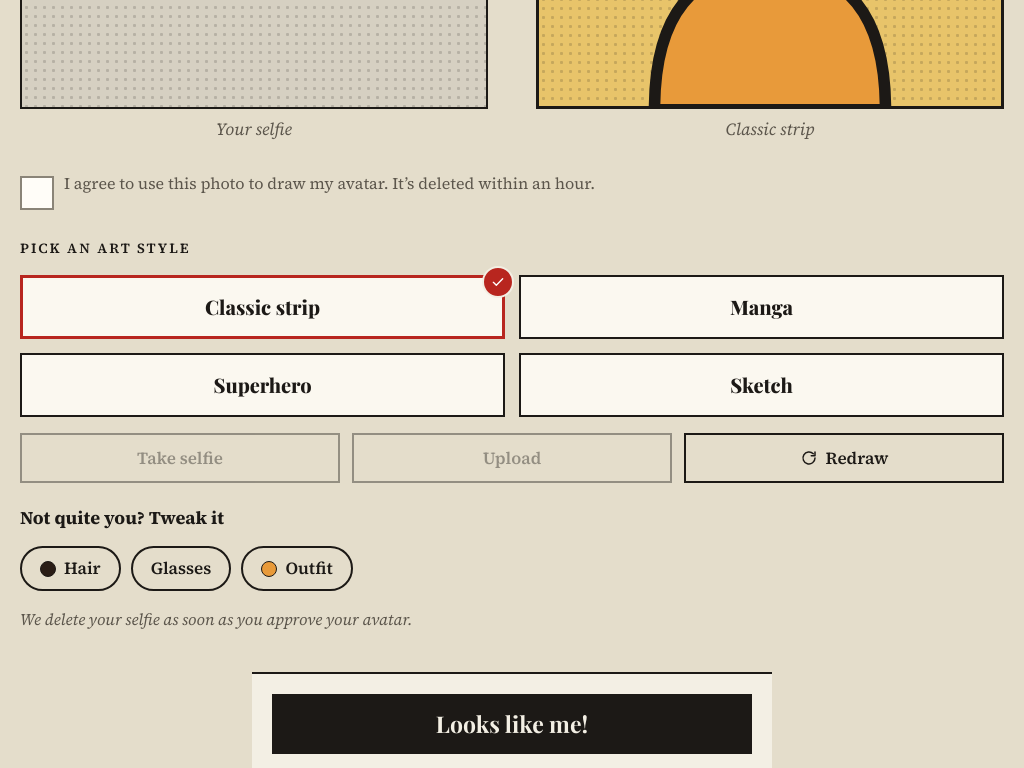
avatar onboarding › draws immediately when a style is picked, and draws on finish when there is no portrait yet
This screenshot has width=1024, height=768.
(page scrolled)
Click the radio button labelled "Sketch": (762, 385) 519,353 -> 1004,417
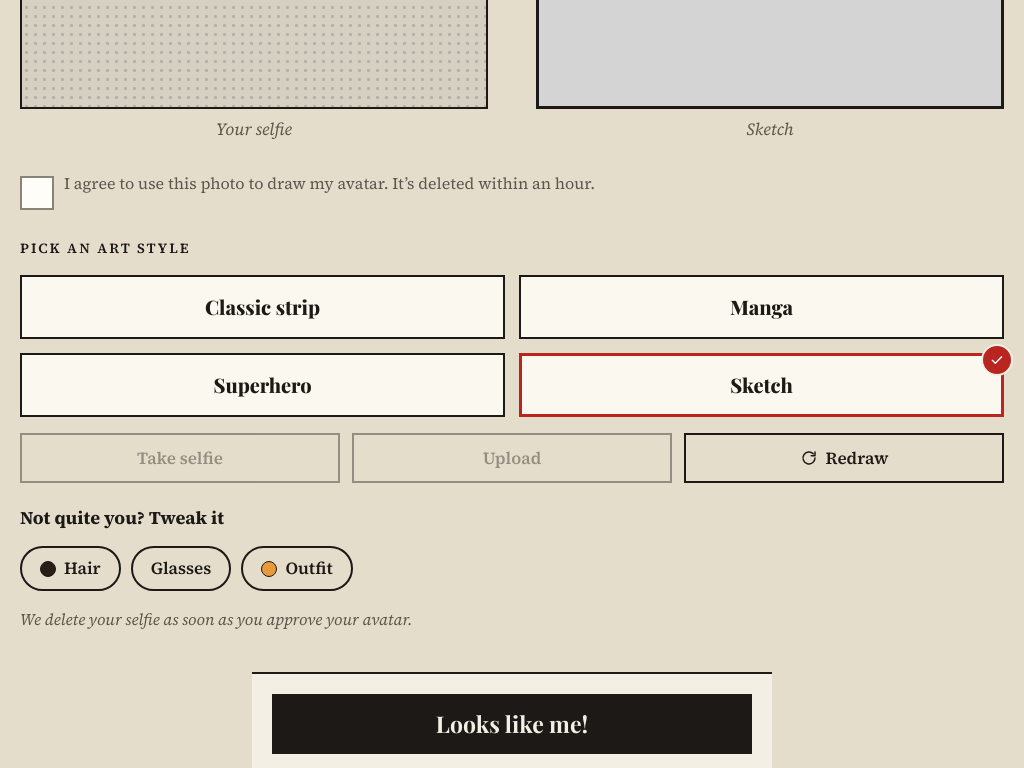
Click the button "Looks like me!": (512, 724) 272,694 -> 752,754
(page scrolled)
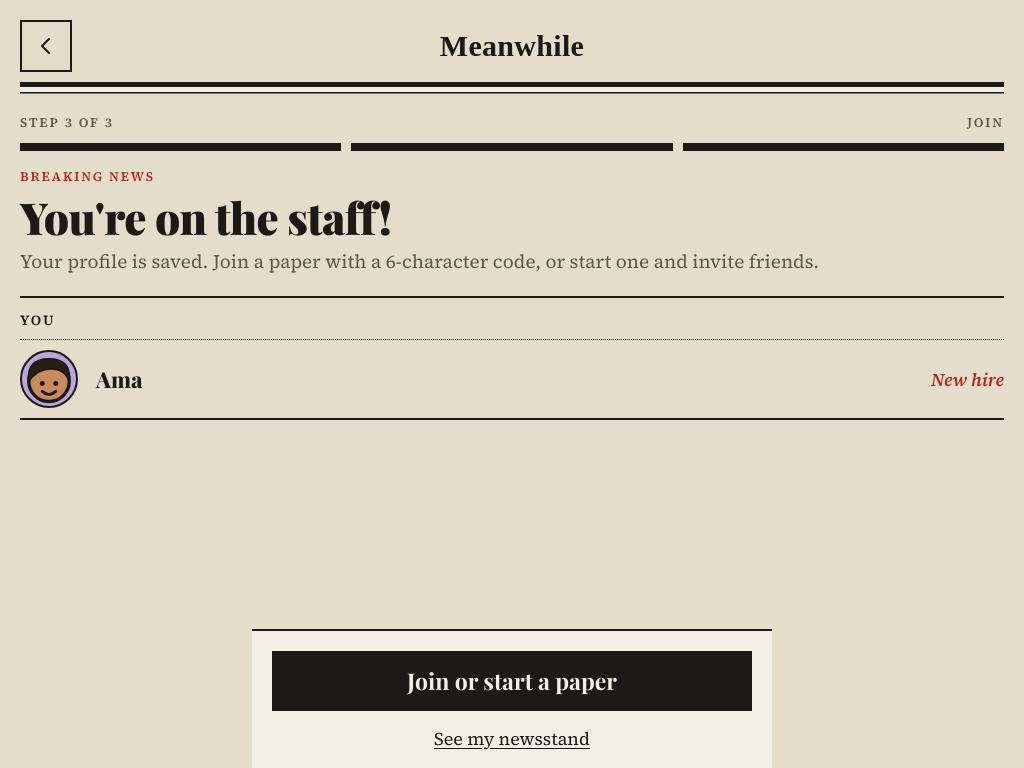
expect the heading "You're on the staff!" is shown: met, box 20,187 -> 391,246
